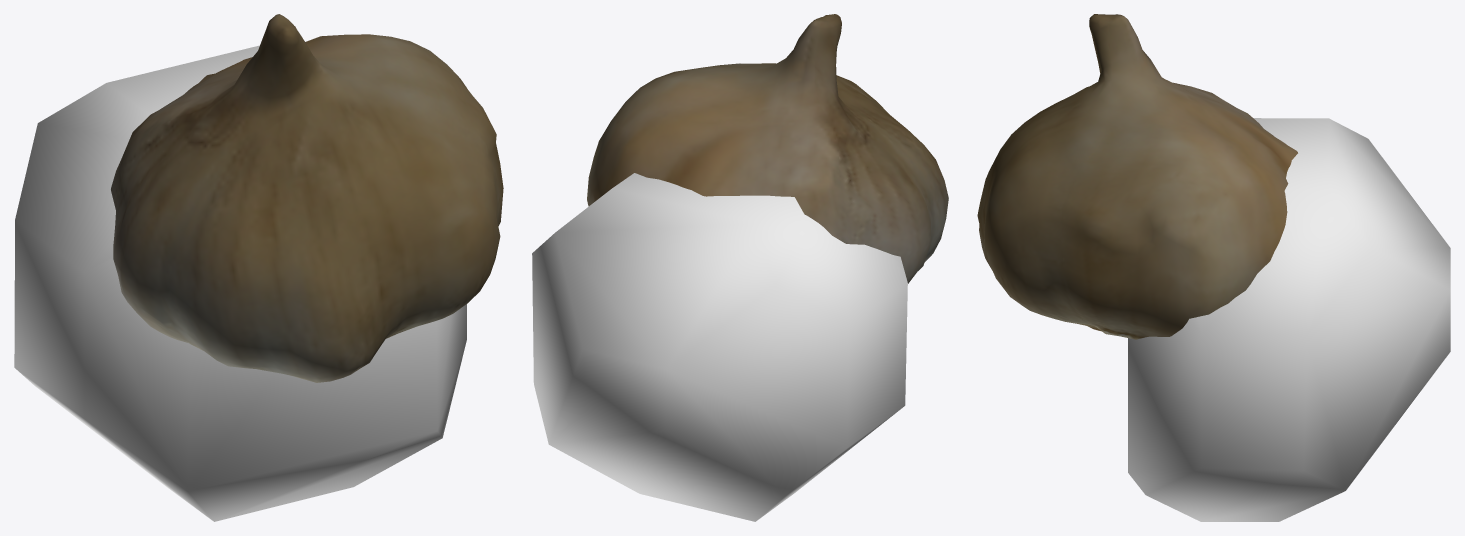
Rendered from SM_Garlic_A_Food.fbx.
3 renders of one model, left to right at view 1: azimuth 30°, elevation 25°; view 2: azimuth 150°, elevation 25°; view 3: azimuth 270°, elevation 25°, orthographic. The views are drawn at different scales.
Parts seen in each view (by area): view 1: SM_Garlic_A_Food, SM_Garlic_A_Food_ConvexHulls; view 2: SM_Garlic_A_Food_ConvexHulls, SM_Garlic_A_Food; view 3: SM_Garlic_A_Food_ConvexHulls, SM_Garlic_A_Food.
Part boxes in pixels (bbox=[...]): SM_Garlic_A_Food: bbox=[111, 14, 503, 382]; SM_Garlic_A_Food_ConvexHulls: bbox=[14, 45, 466, 521]; SM_Garlic_A_Food_ConvexHulls: bbox=[532, 173, 907, 521]; SM_Garlic_A_Food: bbox=[587, 14, 948, 283]; SM_Garlic_A_Food_ConvexHulls: bbox=[1128, 118, 1450, 521]; SM_Garlic_A_Food: bbox=[977, 14, 1297, 339].
Bounding box in the file's own units: 0.0551 × 0.0727 × 0.0685.
